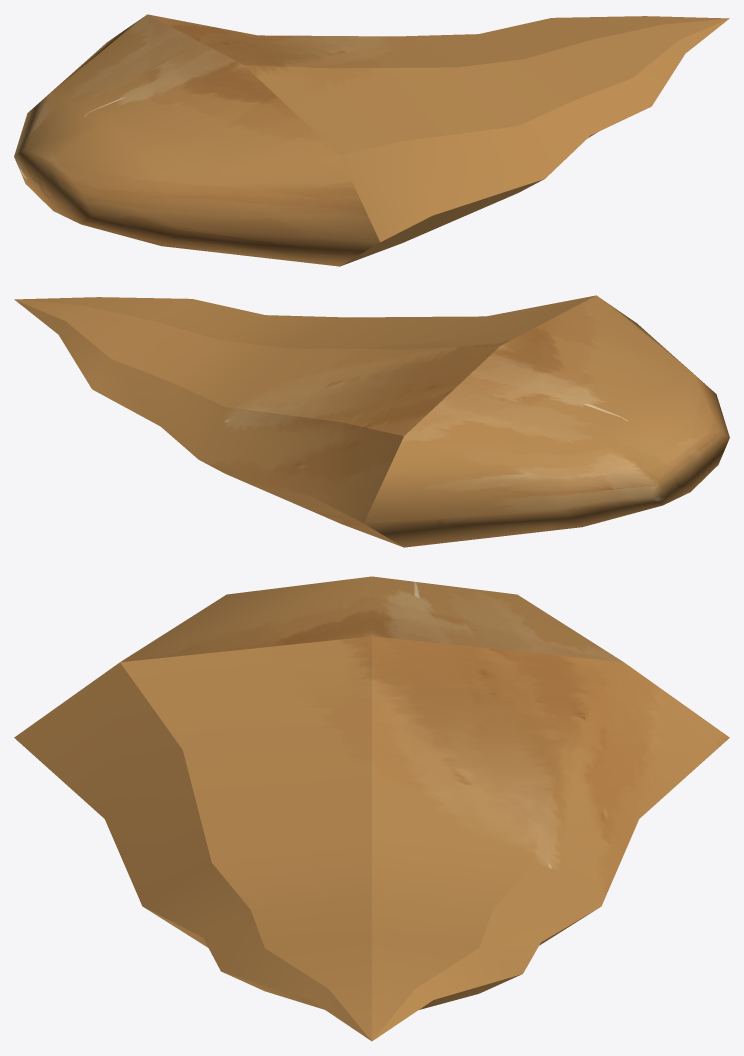
File: leaf3.fbx
3 renders of one model, top to bottom at view 1: azimuth 30°, elevation 25°; view 2: azimuth 150°, elevation 25°; view 3: azimuth 270°, elevation 25°, orthographic. The views are drawn at different scales.
Visible parts, largest first — view 1: pCone1; view 2: pCone1; view 3: pCone1.
Part boxes in pixels (left/top/right/bottom): pCone1: left=14, top=14, right=729, bottom=266; pCone1: left=14, top=295, right=729, bottom=547; pCone1: left=14, top=576, right=729, bottom=1041.
Size of the model in its own units: 3.32 by 0.7844 by 2.32.
